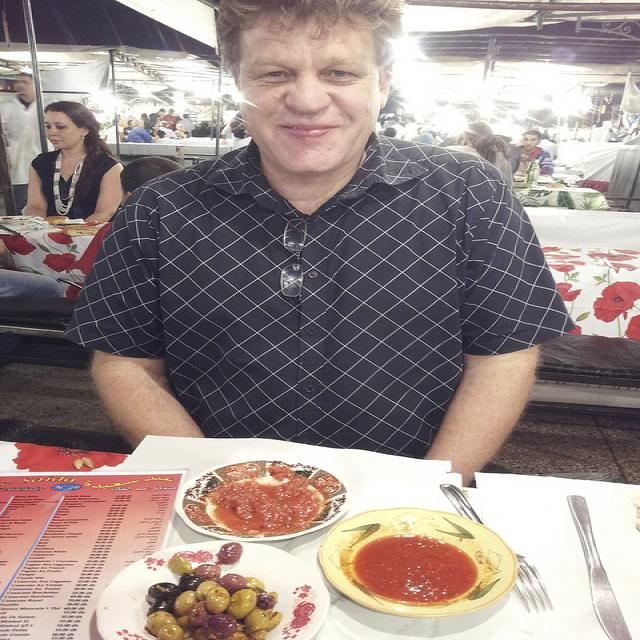chair: (0, 296, 94, 370)
dining table: (2, 440, 637, 631), (525, 209, 640, 340), (0, 215, 112, 296), (514, 181, 611, 210), (104, 141, 235, 162)
